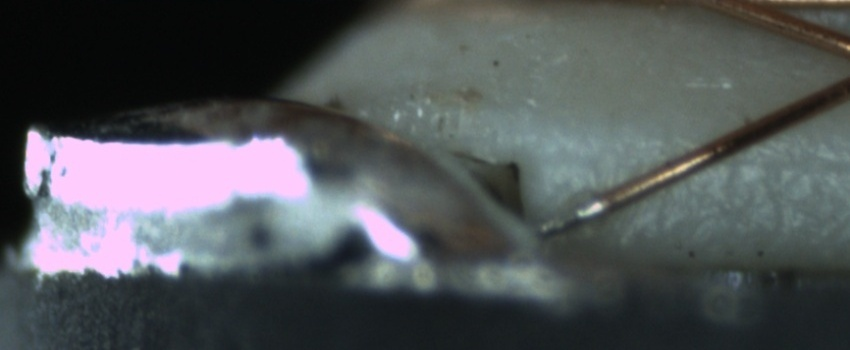DL: (554, 120, 837, 186)
TS: (532, 199, 601, 236)
TTCW: (534, 186, 616, 238)
